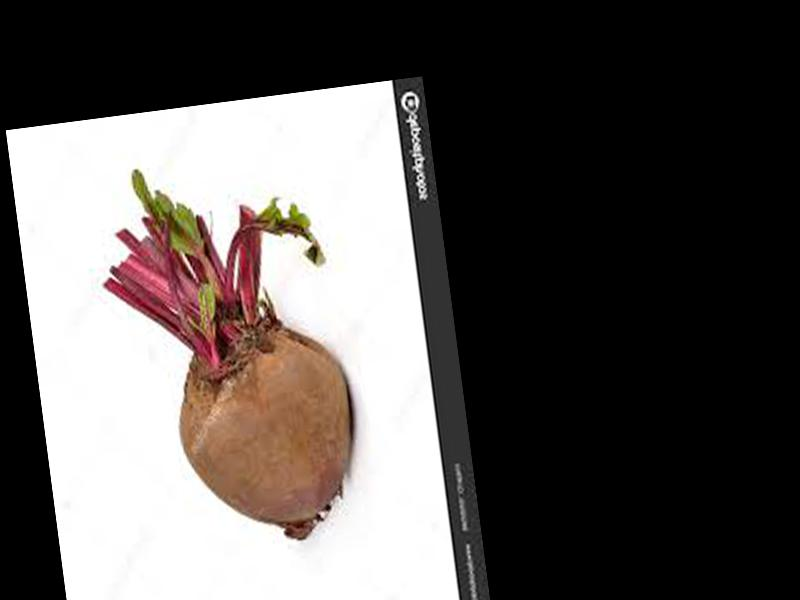Beet: (89, 145, 369, 561)
